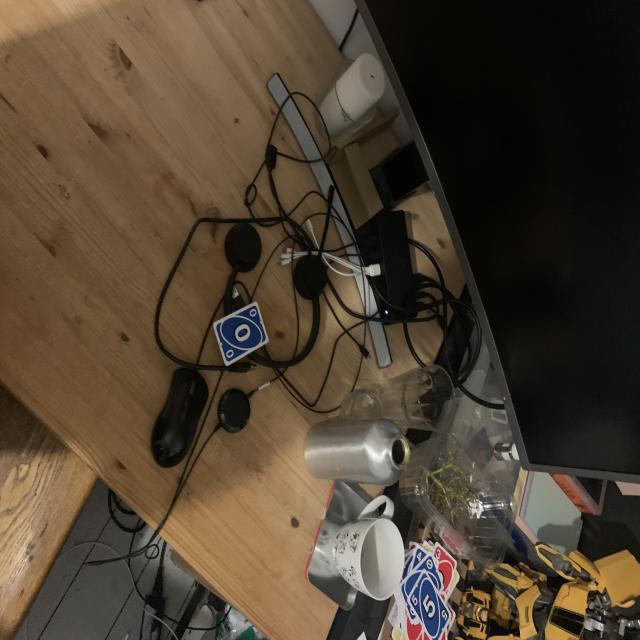lblue-0: (247, 308, 258, 320)
